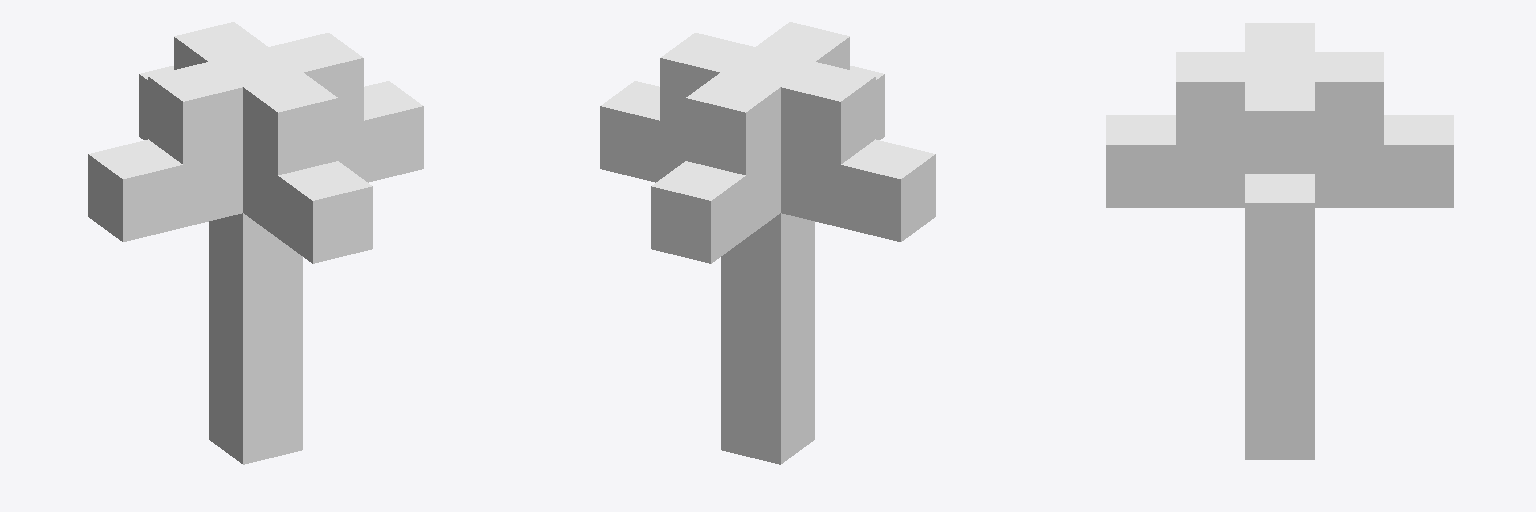
The model's file is flower.obj.
3 renders of one model, left to right at view 1: azimuth 30°, elevation 25°; view 2: azimuth 150°, elevation 25°; view 3: azimuth 270°, elevation 25°, orthographic.
Size of the model in its own units: 5 by 6 by 5.